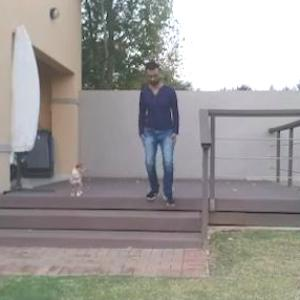follow: (145, 61, 181, 209)
